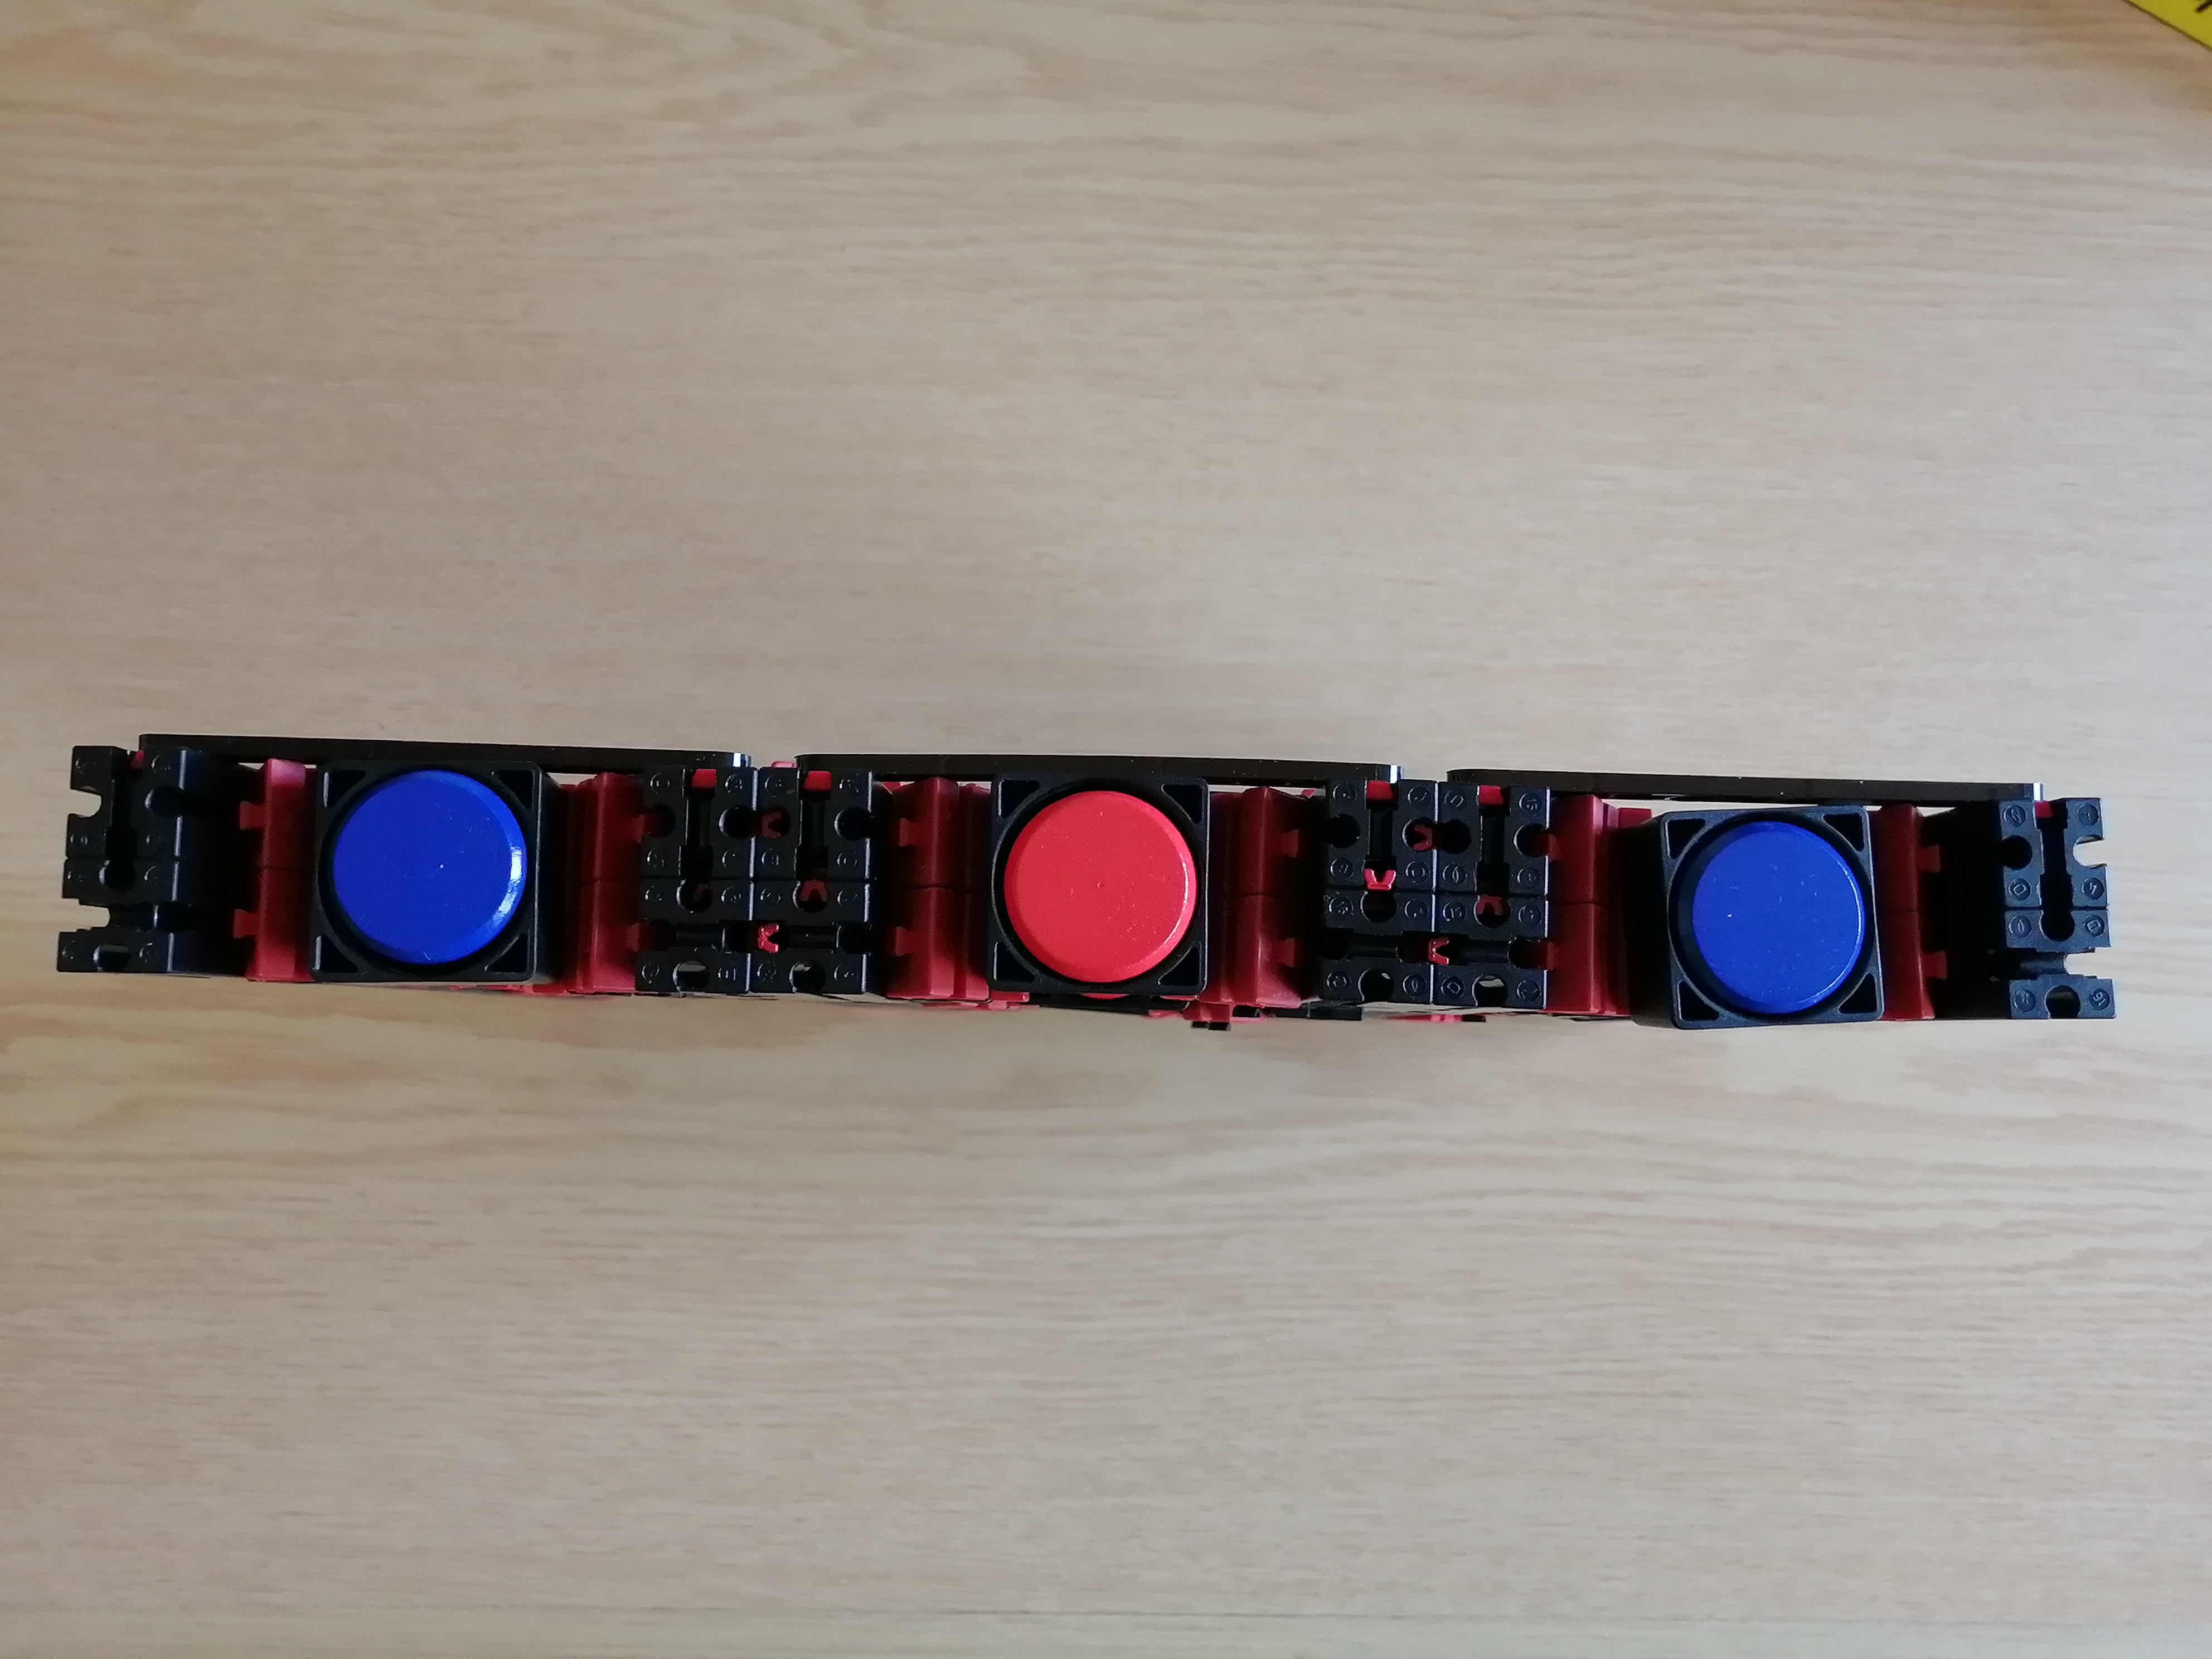Behaelter: (1623, 805, 1876, 1026), (303, 777, 550, 986), (981, 791, 1207, 1007)
WerkStueck: (1008, 791, 1195, 986), (333, 777, 517, 955), (1684, 823, 1858, 1006)
